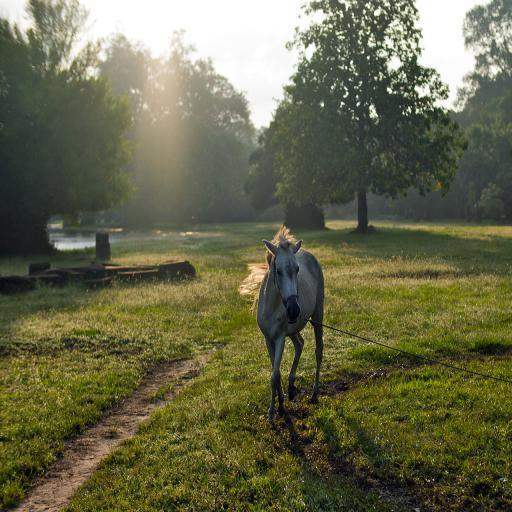horse: (254, 226, 326, 426)
